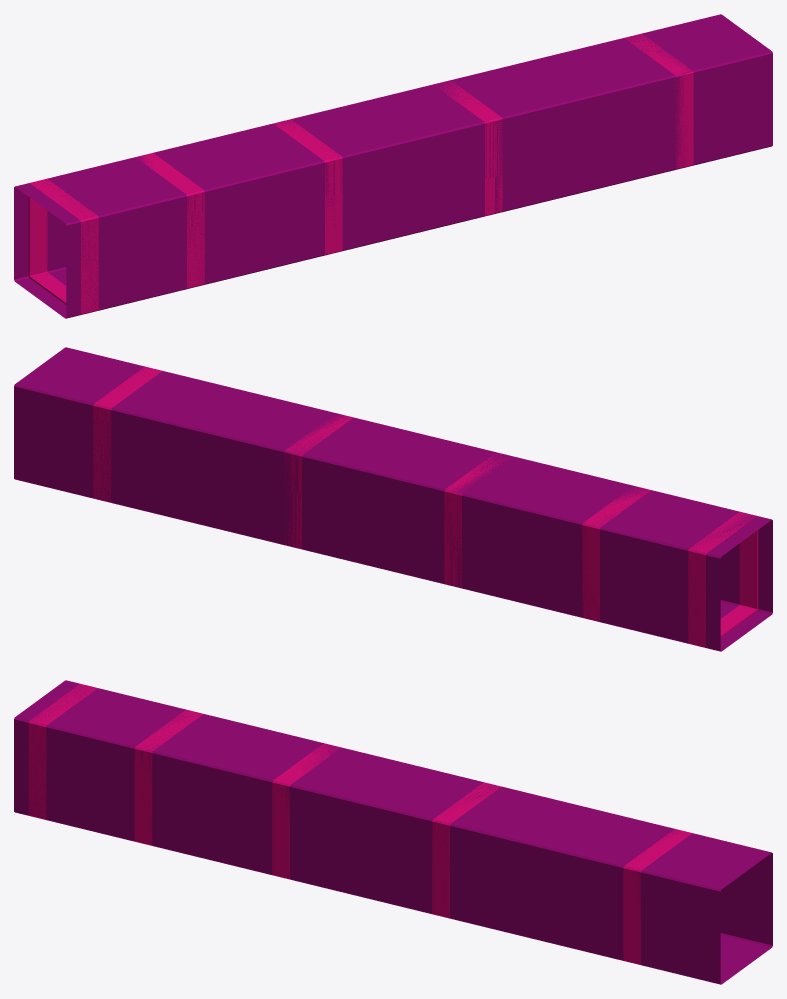
The model's file is Tunnel1.fbx.
3 renders of one model, top to bottom at view 1: azimuth 30°, elevation 25°; view 2: azimuth 150°, elevation 25°; view 3: azimuth 330°, elevation 25°, orthographic.
Visible parts, largest first — view 1: Cube.019; view 2: Cube.019; view 3: Cube.019.
Part boxes in pixels (x1,y1,x2,y2): Cube.019: (14, 14, 772, 318); Cube.019: (14, 347, 772, 651); Cube.019: (14, 680, 772, 984).
Bounding box in the file's own units: 21596 × 2776 × 2776.
